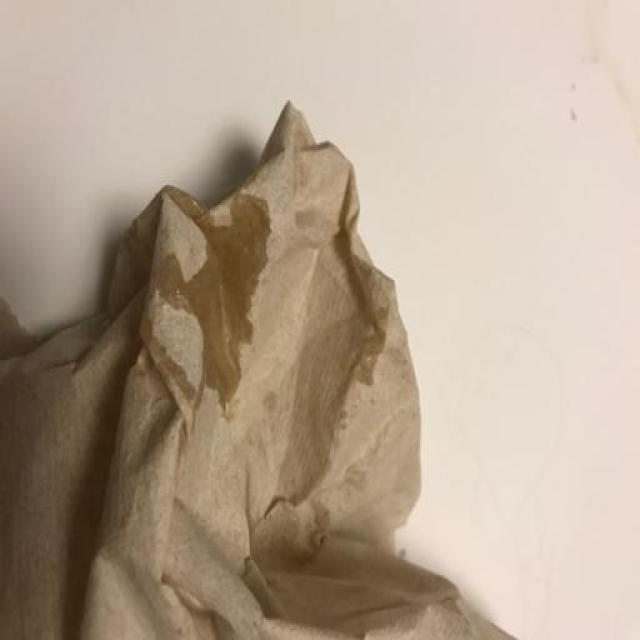Random Trash: (0, 103, 515, 640)
